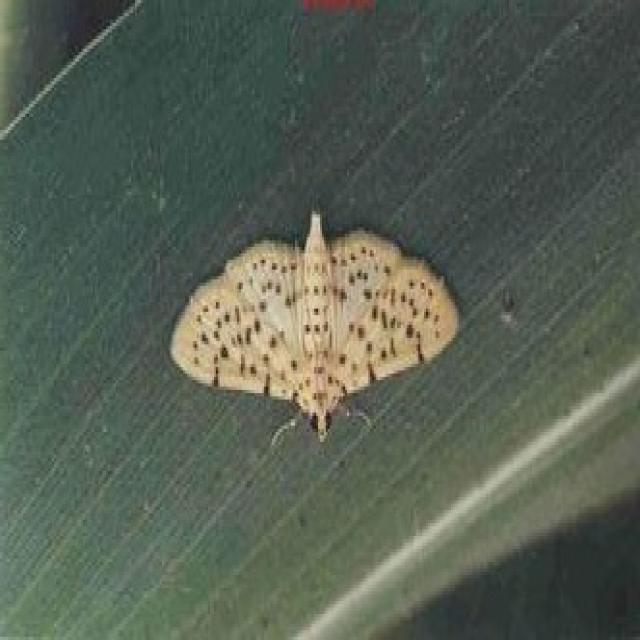peach borer: (164, 203, 463, 450)
